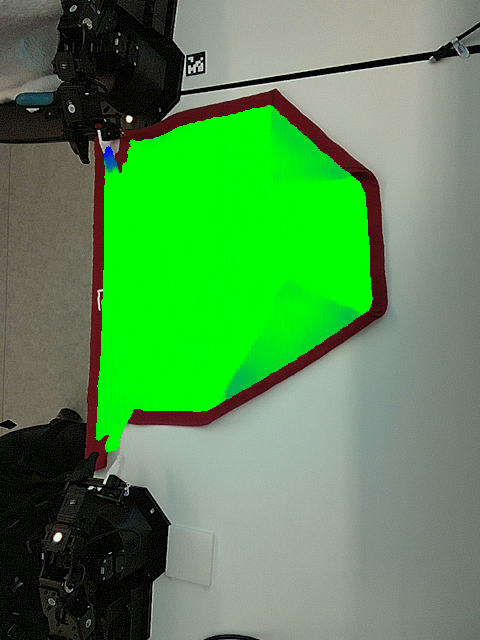V: (263, 261, 326, 317), (266, 149, 316, 195)
